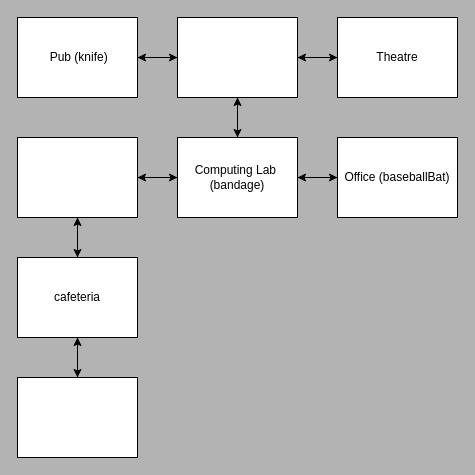
Some shapes in this 475 by 475 pixel diagram are drawn without their labels. Here are the shapes that lost their labels. From the top down, the centre of each, then its label:
At point 237,57: "Outside".
At point 77,177: "Library".
At point 77,417: "Emergency exit".
